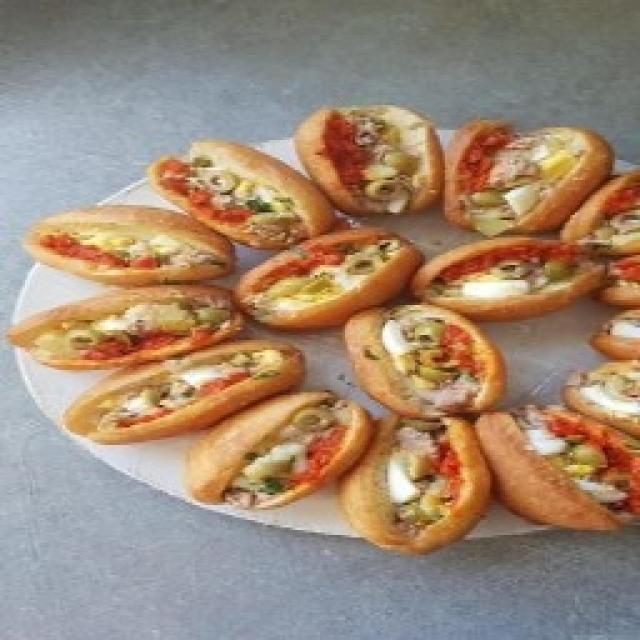Frecasse: (18, 108, 640, 555)
